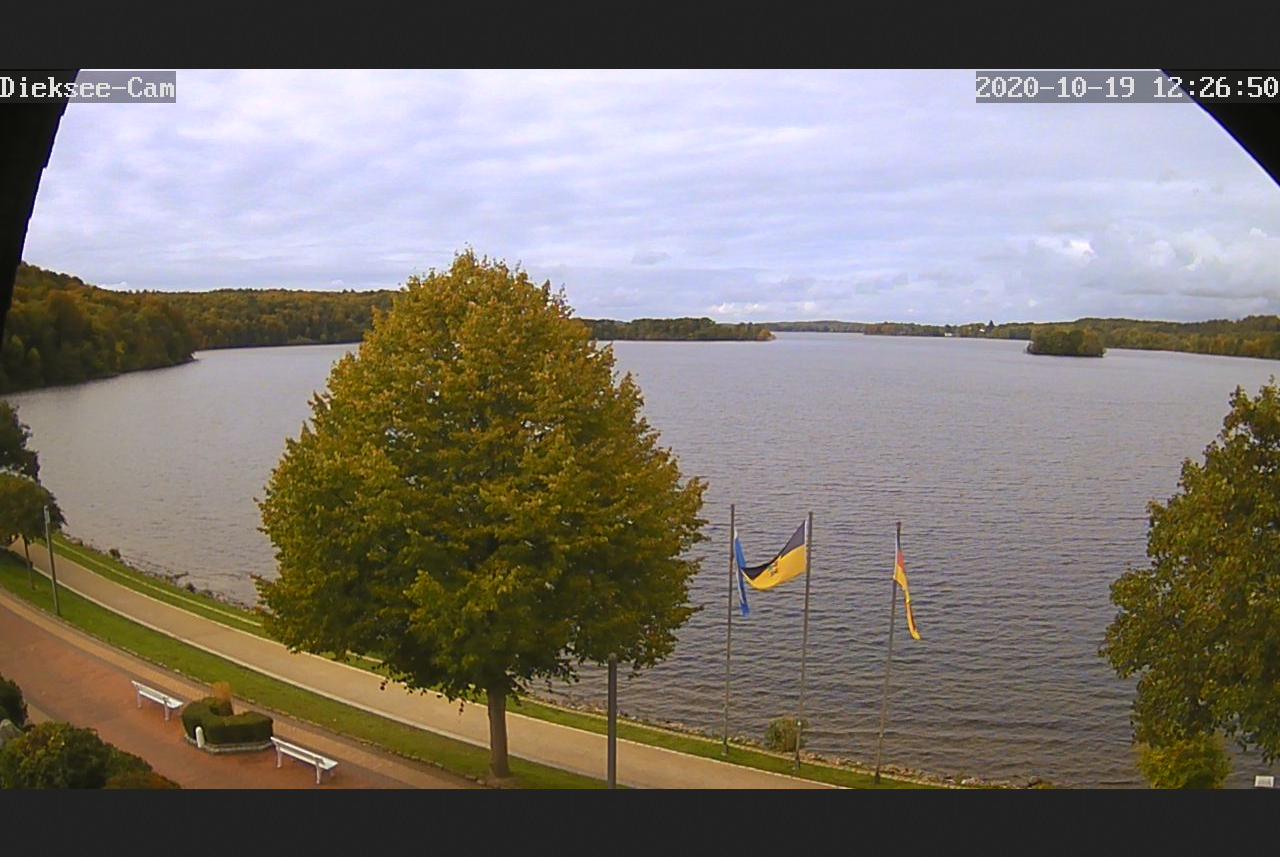maybe: (739, 518, 810, 589)
no: (891, 528, 922, 642), (730, 521, 748, 616)
